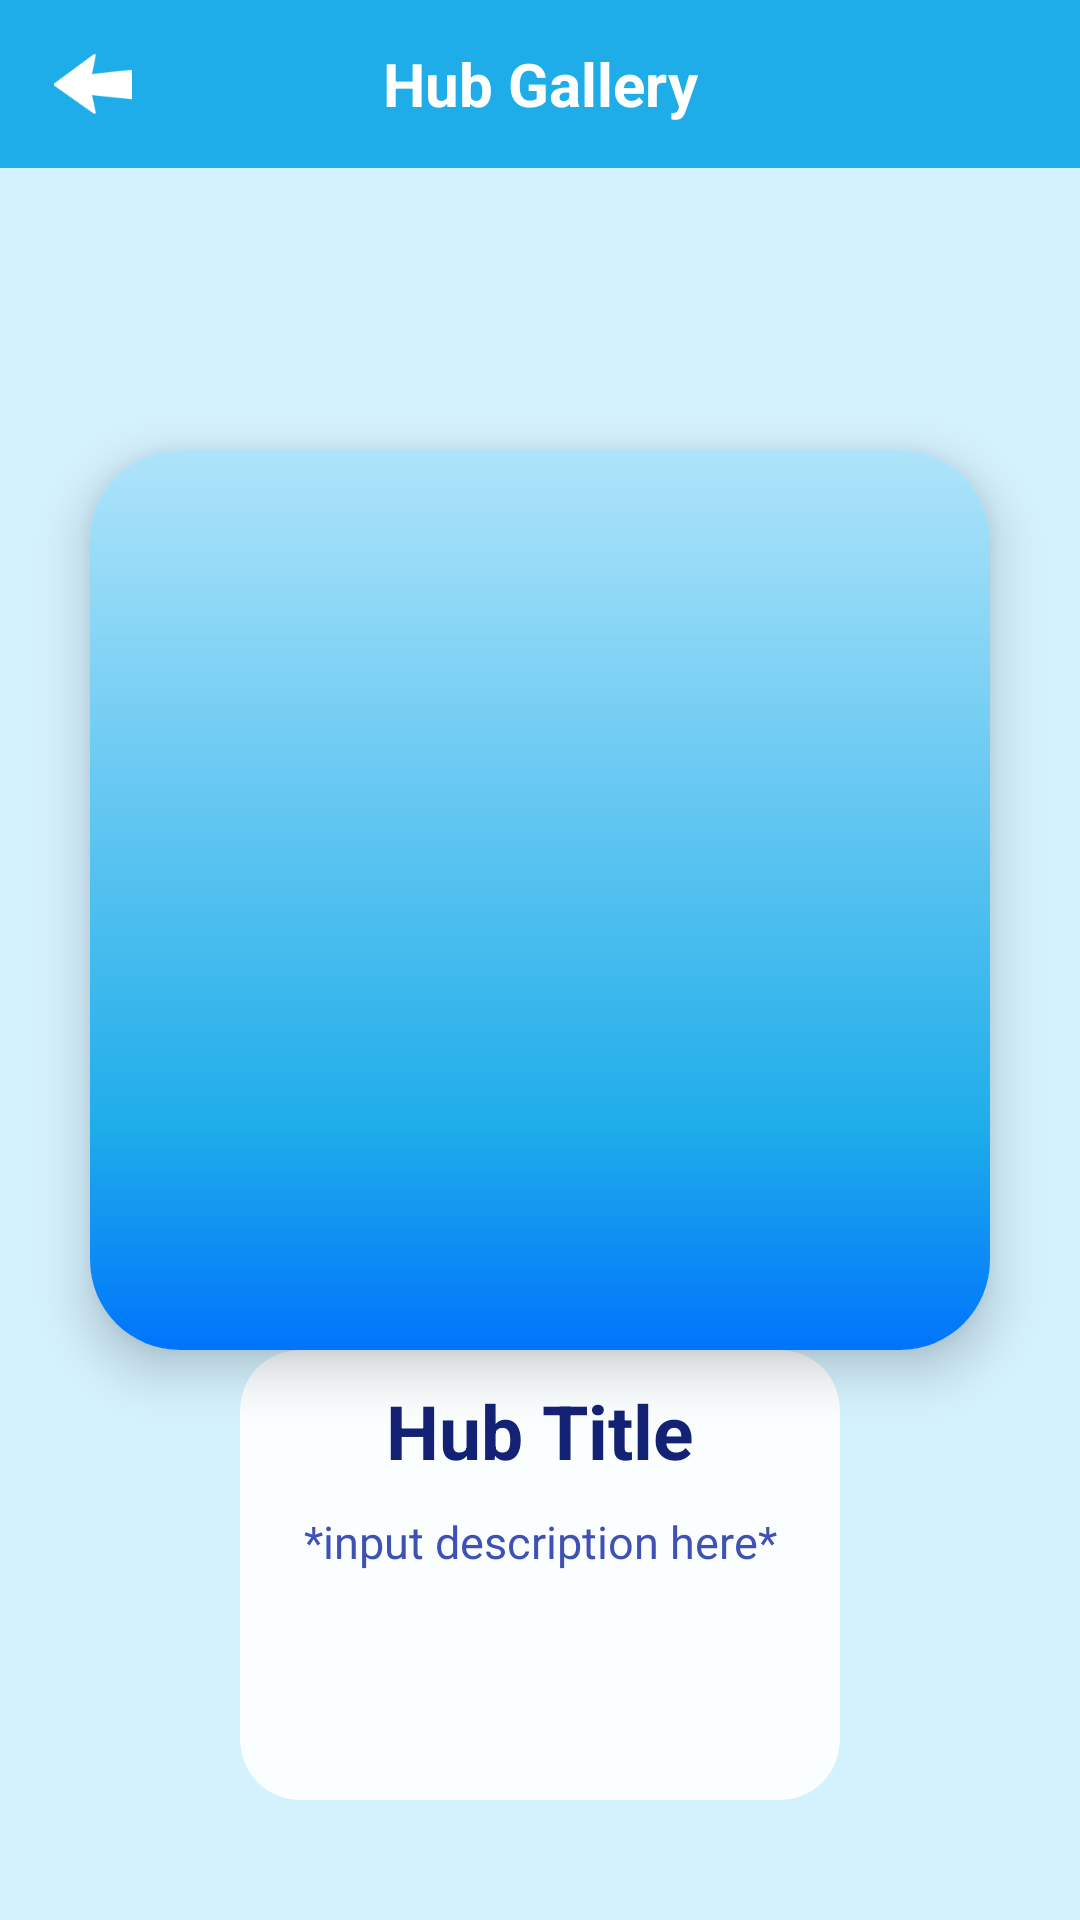

Point at icon controls on the screen. Image size 1080*1920, points as point (x, y).
arrow: point (93, 84)
